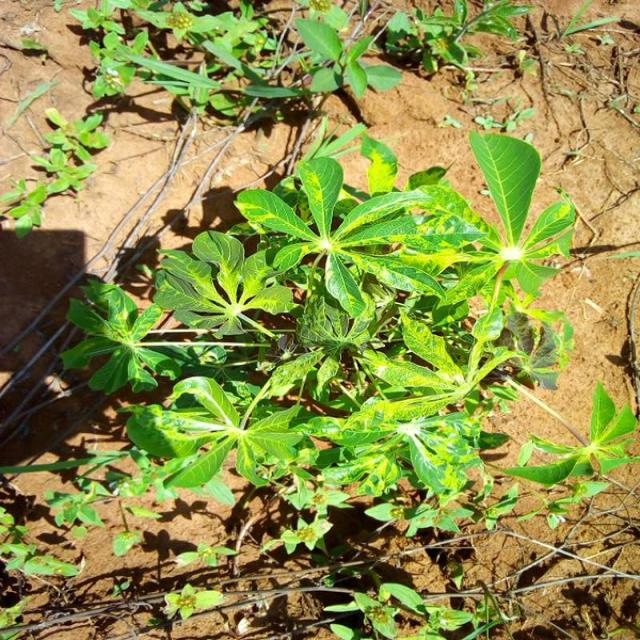cassava leaf: (467, 128, 542, 249)
